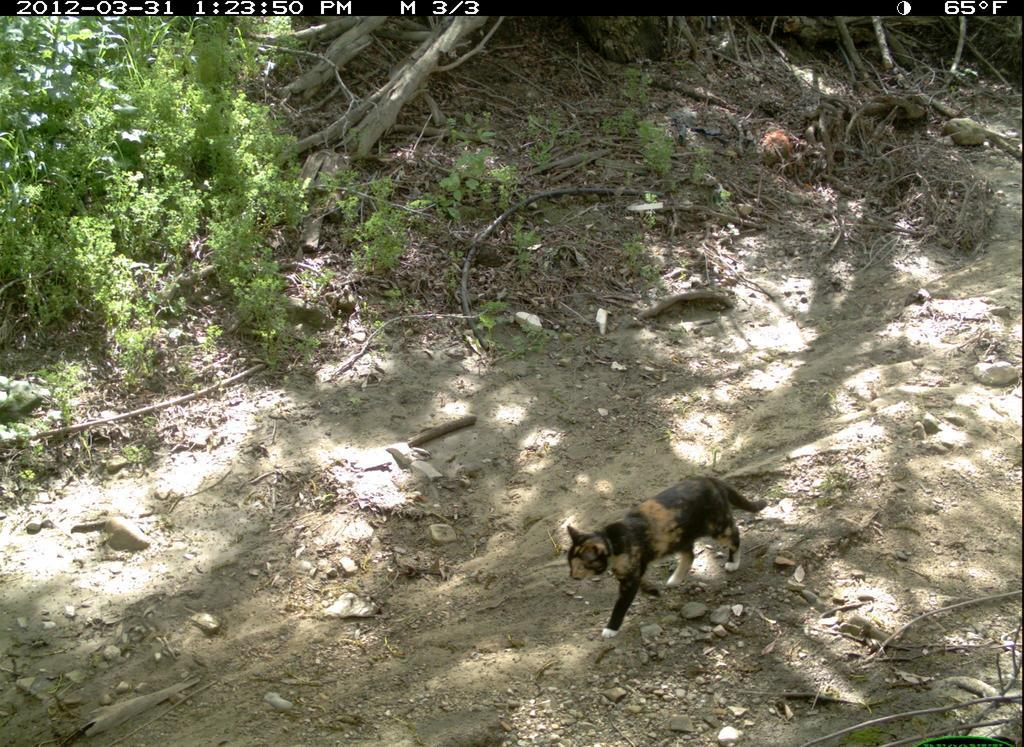cat: (545, 468, 769, 648)
